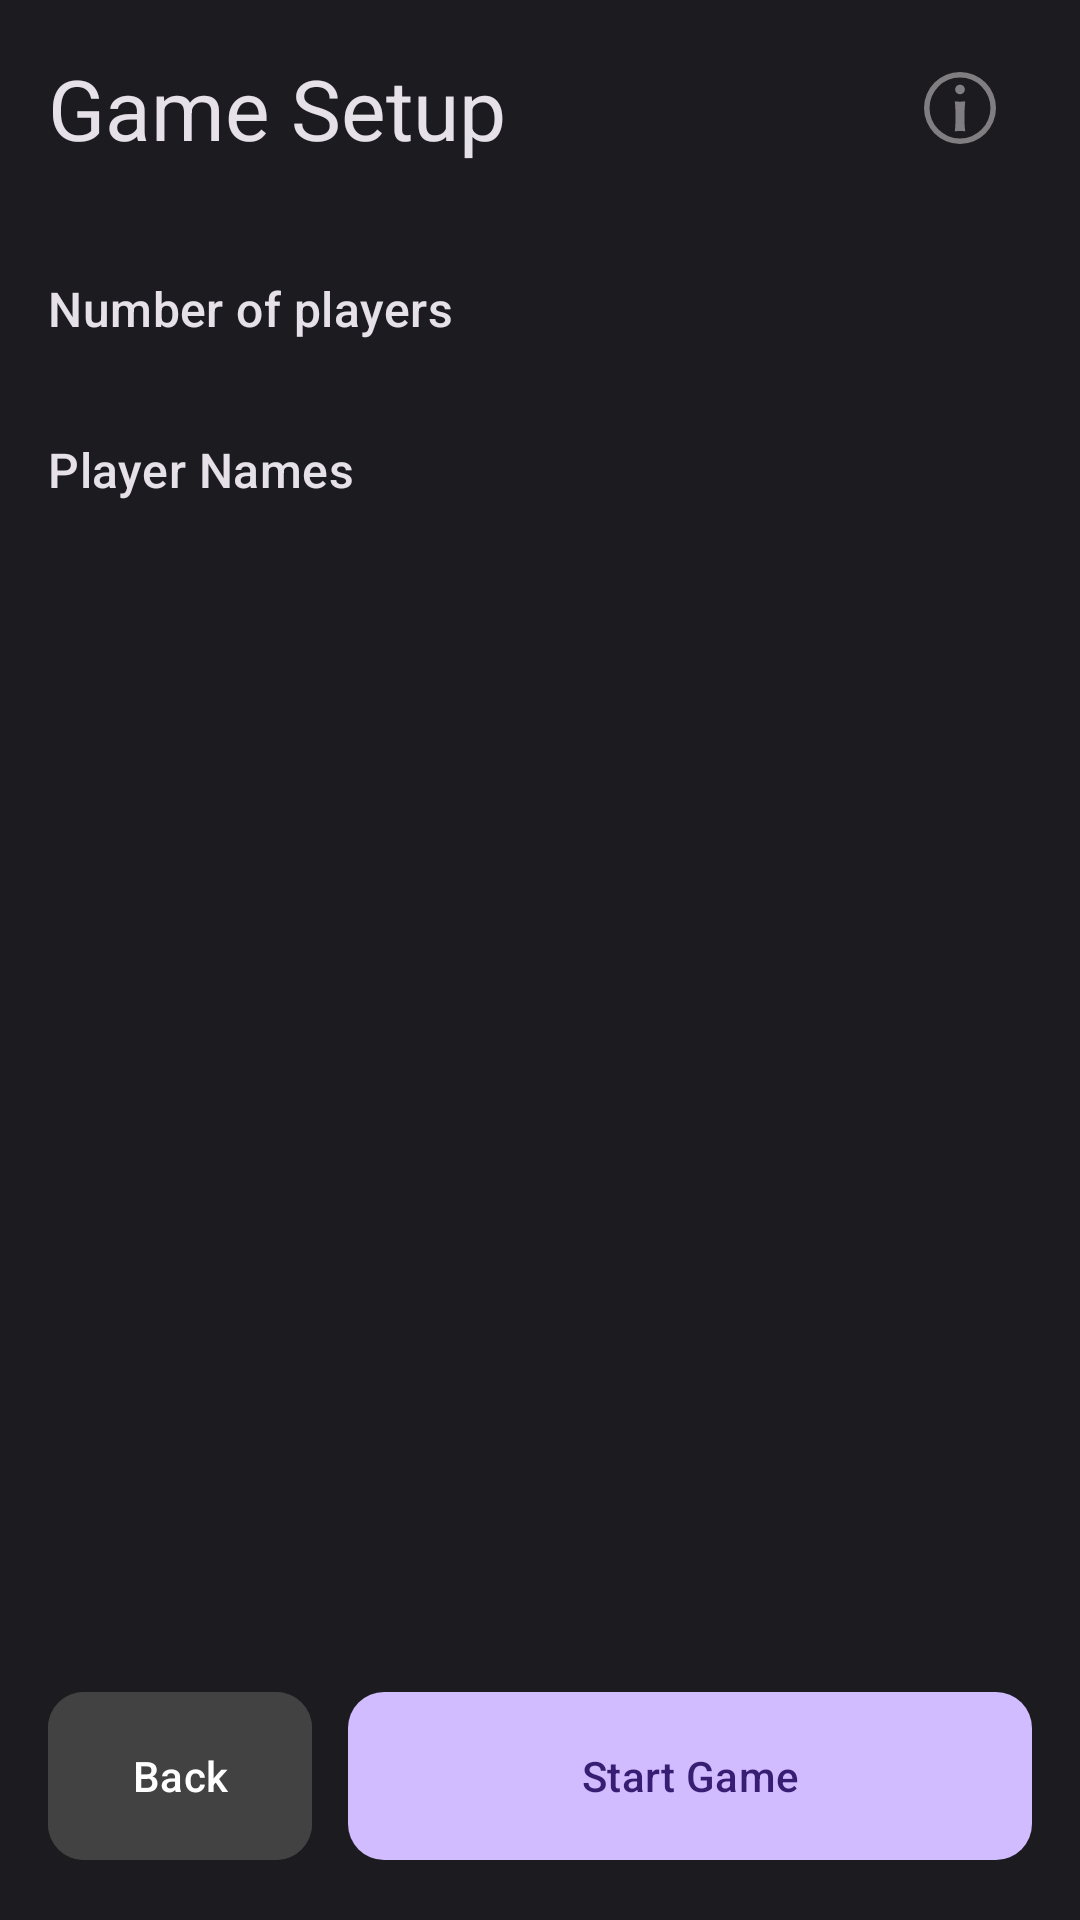

Icons on this 1080×1920 Android screen, each with its box as (x1, y1, x2, y2):
Info: (924, 72, 996, 144)
